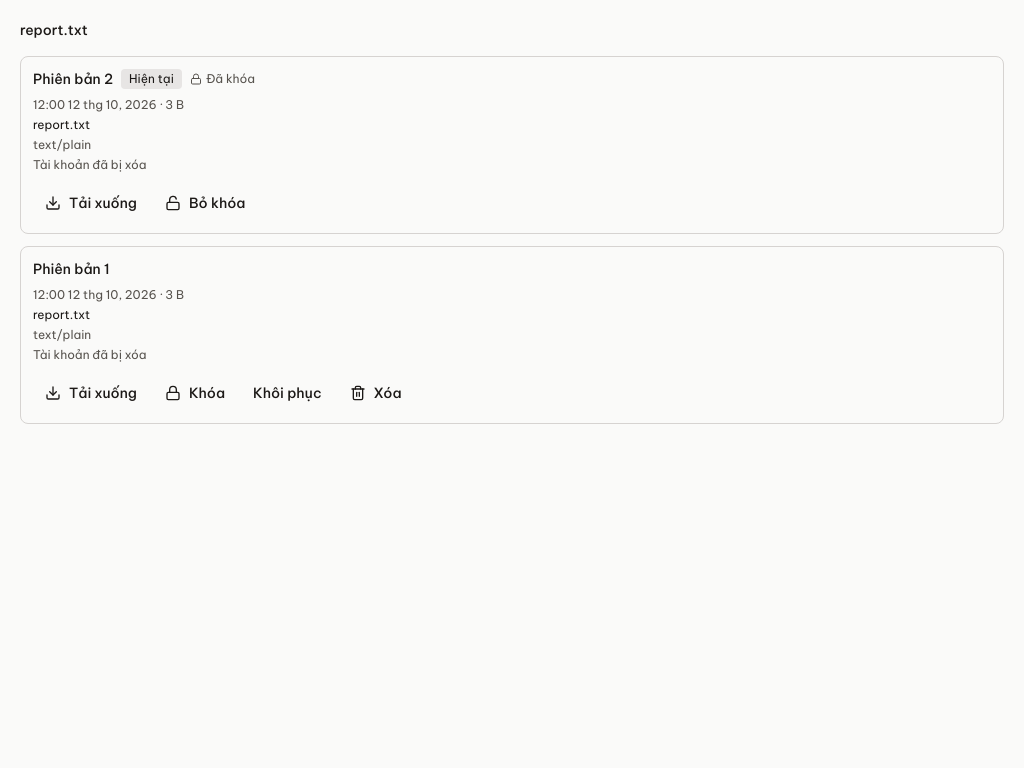
Scenario: version panel › confirms restore, refreshes affected caches and keeps another selected file
Step 1. Click the button with aria-label "Khôi phục phiên bản 1" → (287, 393), box 241,375 -> 334,411
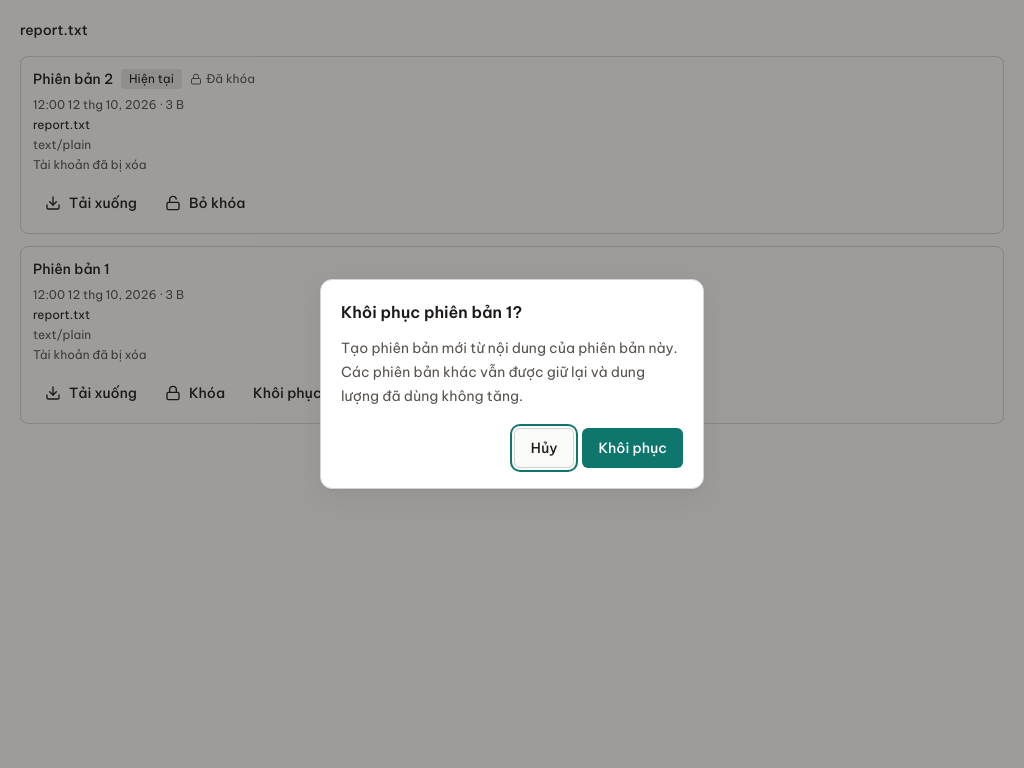
Step 2. Click the button "Khôi phục" → (633, 448), box 582,428 -> 683,468
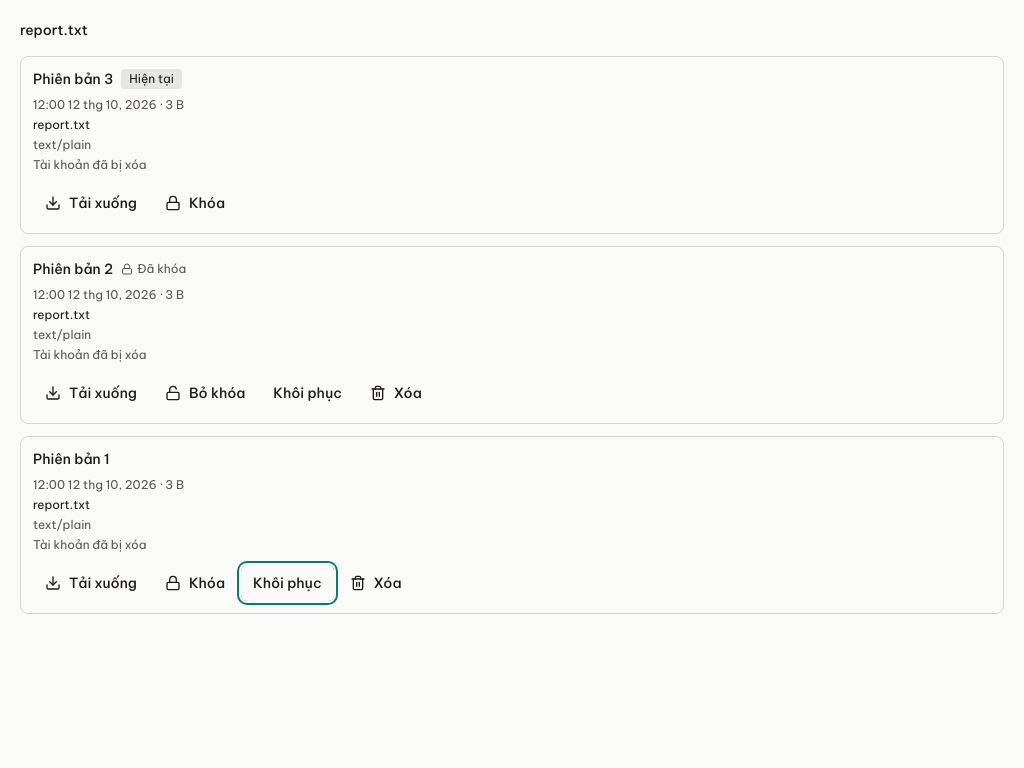
Expected: the text "Phiên bản 3" is shown, 33,69 -> 113,89
Expected: the dialog is gone
